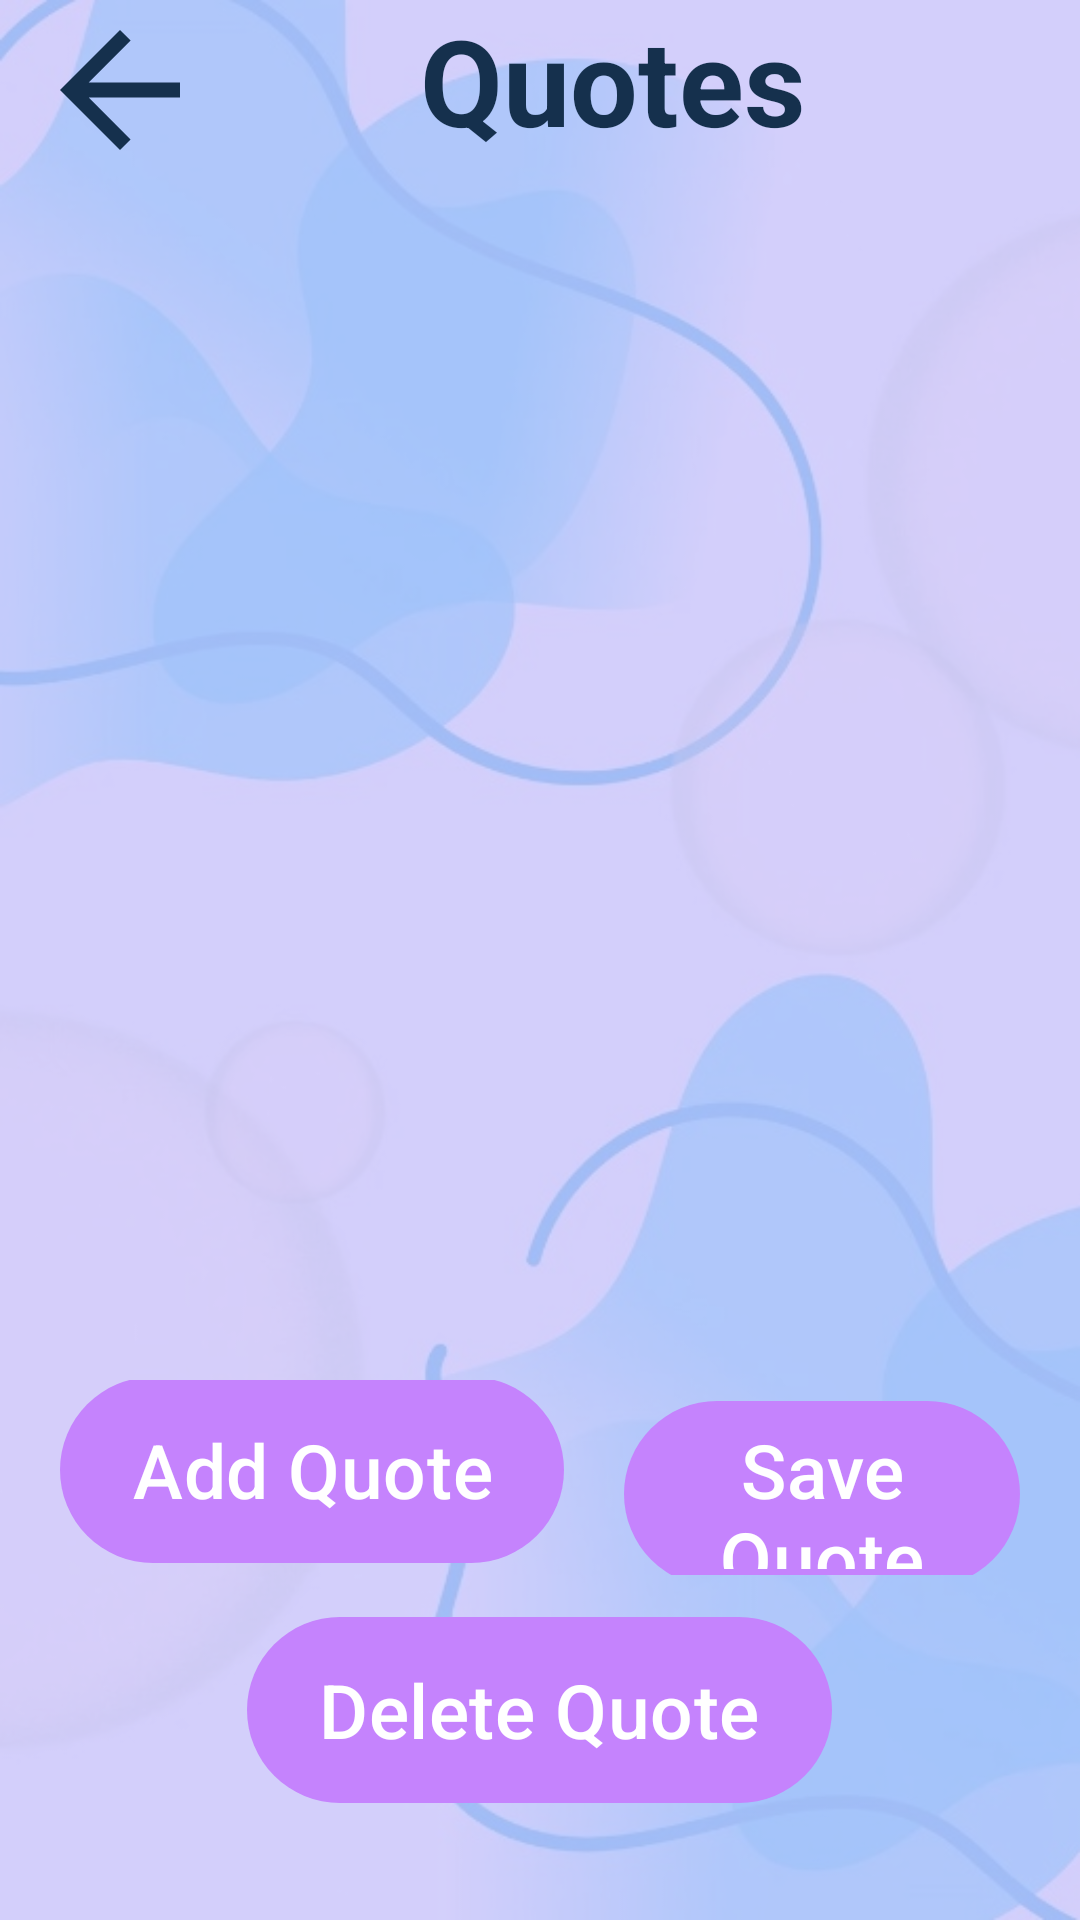

Icons on this 1080px×1920px Android screen, each with its box as box=[x1, y1, x2, y2]:
arrow back: box=[0, 0, 180, 180]
